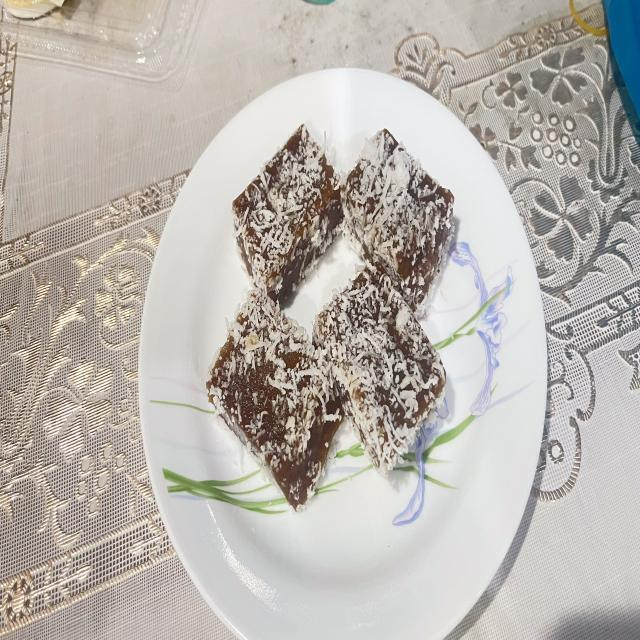kaswi: (206, 289, 344, 509), (312, 264, 446, 476), (341, 129, 454, 313), (232, 124, 344, 302)
